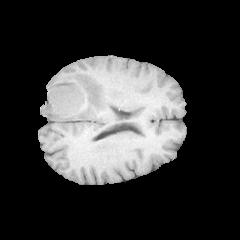glioma: (44, 72, 111, 120)
